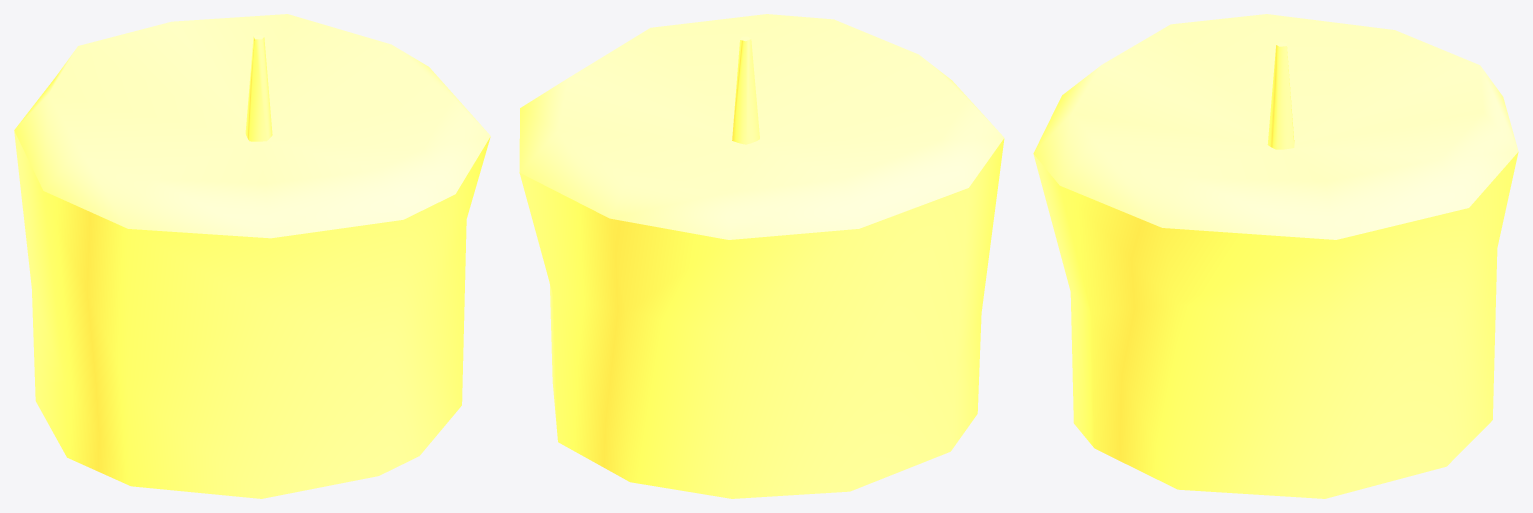
The model's file is Candle_red_3.fbx.
3 views of the same model, side by side, from view 1: azimuth 30°, elevation 25°; view 2: azimuth 150°, elevation 25°; view 3: azimuth 270°, elevation 25° (orthographic).
Parts seen in each view (by area): view 1: Candle_red_3_LOD0; view 2: Candle_red_3_LOD0; view 3: Candle_red_3_LOD0.
Boxes of the visible parts, x1=… form: Candle_red_3_LOD0: x1=14, y1=14, x2=490, y2=498; Candle_red_3_LOD0: x1=519, y1=14, x2=1004, y2=498; Candle_red_3_LOD0: x1=1033, y1=14, x2=1518, y2=498.
Size of what is drawn, in the model's own units: 0.0548 by 0.0462 by 0.0549.
